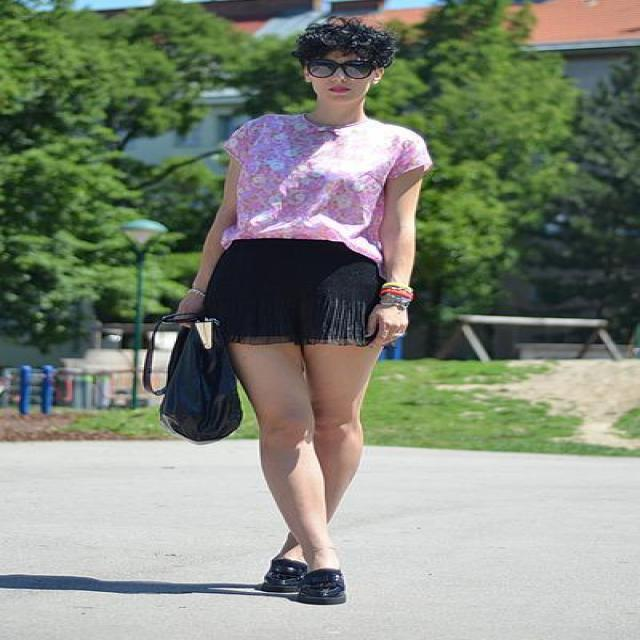bag: (142, 328, 253, 442)
shirt: (221, 102, 432, 260)
shoe: (250, 559, 344, 604)
skirt: (173, 238, 392, 344)
sunglass: (310, 50, 366, 77)
